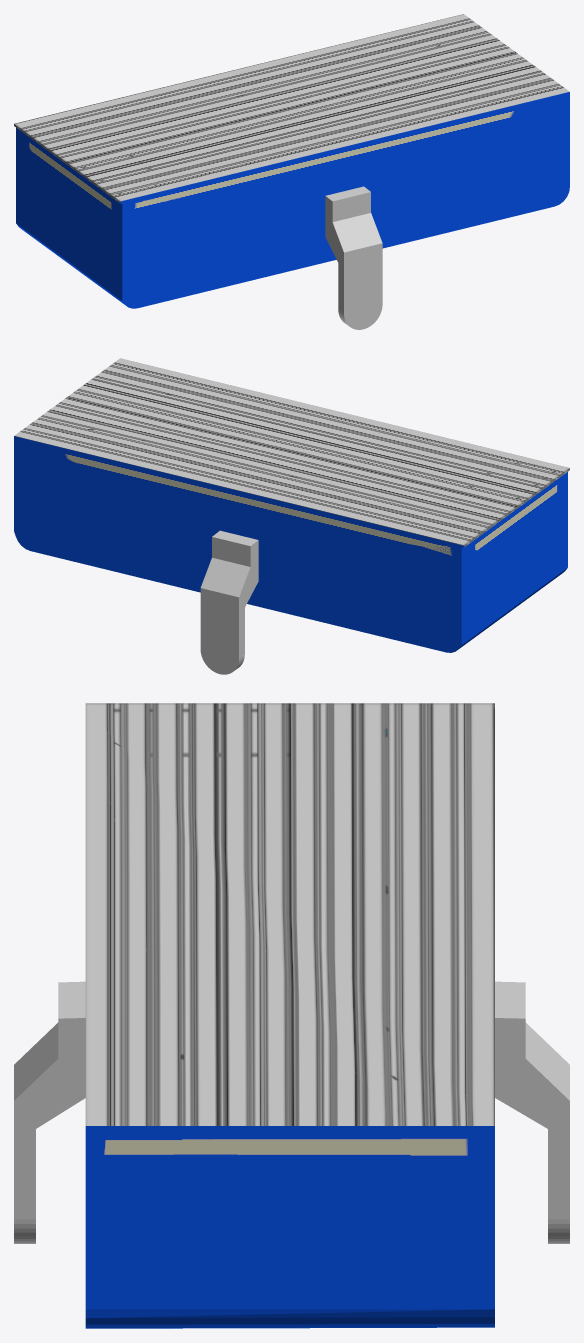
Rendered from body_2021.dae.
3 renders of one model, top to bottom at view 1: azimuth 30°, elevation 25°; view 2: azimuth 150°, elevation 25°; view 3: azimuth 270°, elevation 25°, orthographic. The views are drawn at different scales.
Visible parts, largest first — view 1: Body; view 2: Body; view 3: Body.
Boxes of the visible parts, x1,y1,x2,y2 form: Body: [14, 14, 569, 329]; Body: [14, 358, 569, 674]; Body: [14, 703, 569, 1328].
Bounding box in the file's own units: 0.5891 × 0.3273 × 0.2115.
Materials: 1 (1 with a texture image).
